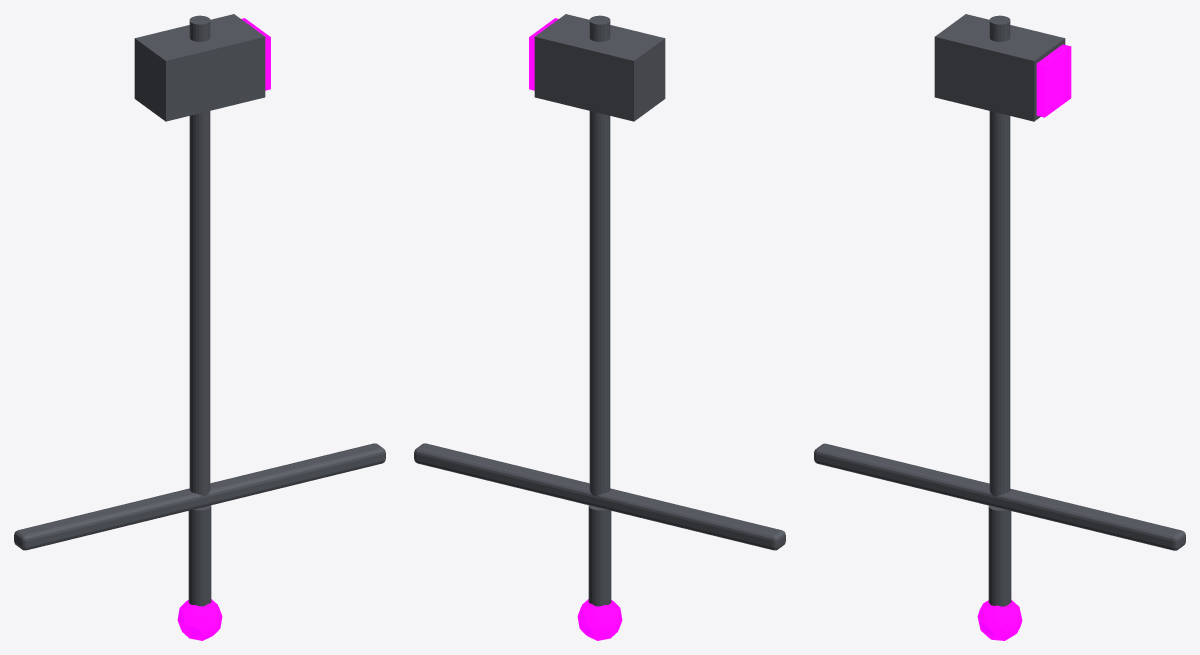
Rendered from magma_crush_02_f50f.glb.
3 renders of one model, left to right at view 1: azimuth 30°, elevation 25°; view 2: azimuth 150°, elevation 25°; view 3: azimuth 330°, elevation 25°, orthographic.
Parts seen in each view (by area): view 1: Cylinder; view 2: Cylinder; view 3: Cylinder.
Boxes of the visible parts, left/top/right/bottom form: Cylinder: left=14, top=14, right=385, bottom=640; Cylinder: left=414, top=14, right=785, bottom=640; Cylinder: left=814, top=14, right=1185, bottom=640.
Size of the model in its own units: 0.88 by 1.43 by 0.13.
